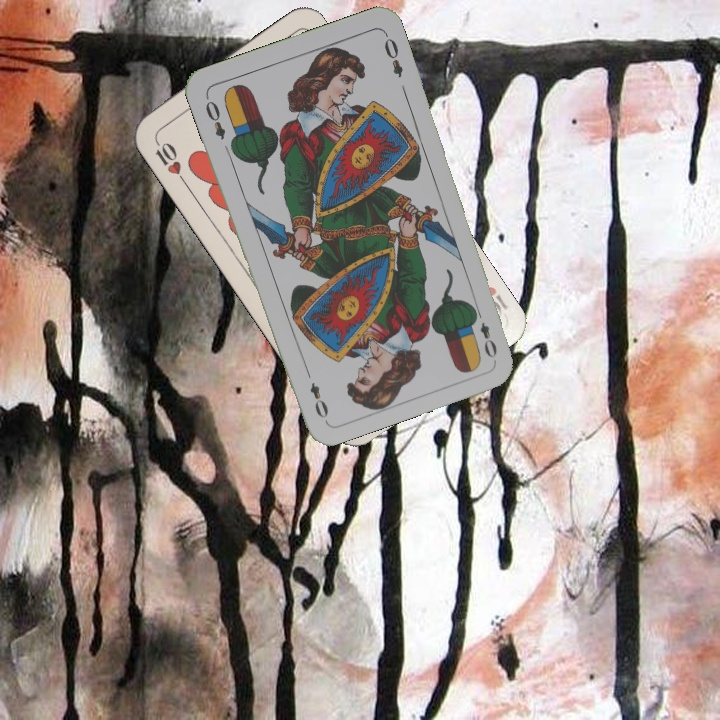EO: (470, 304, 500, 361), (201, 92, 228, 142)
H10: (149, 133, 189, 186)
